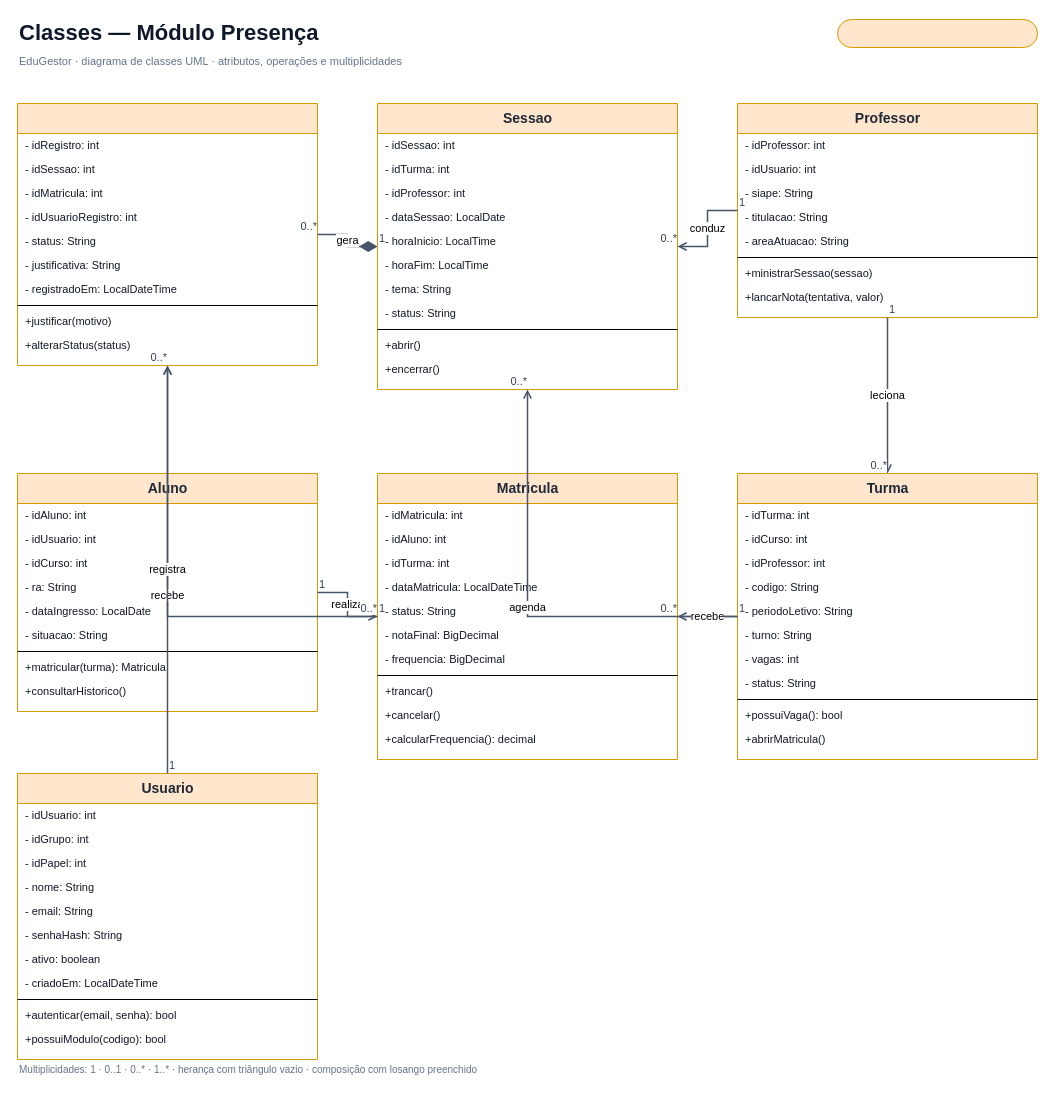
The diagram is 1055 pixels wide and 1096 high, and some of its shapes have lost their labels. Each missing label, with the box of its shape:
Módulo Presença: (836, 18, 1038, 48)
RegistroPresenca: (16, 102, 318, 366)
